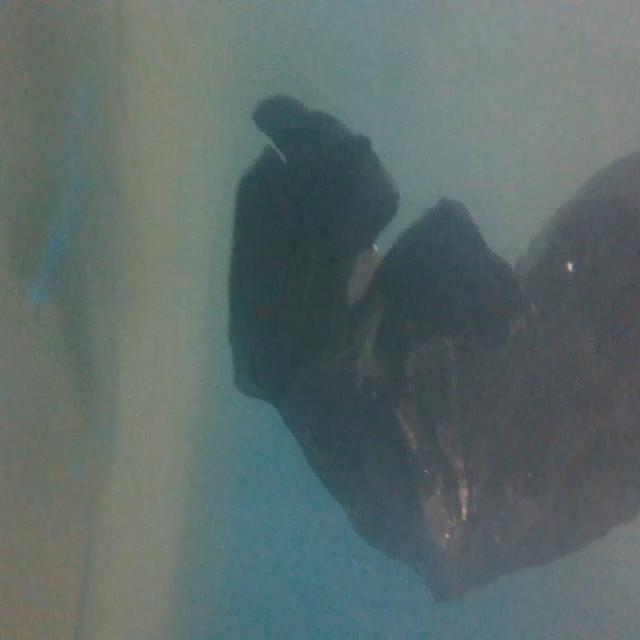plastic bags: (210, 74, 640, 605)
